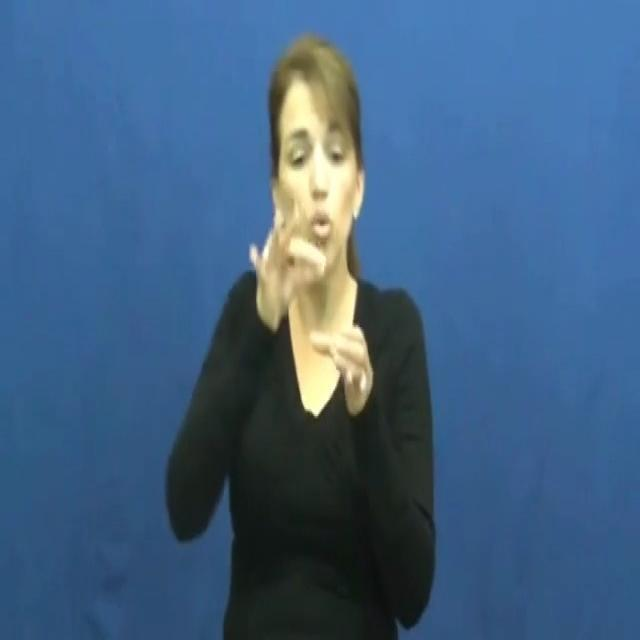straw: (242, 192, 380, 418)
